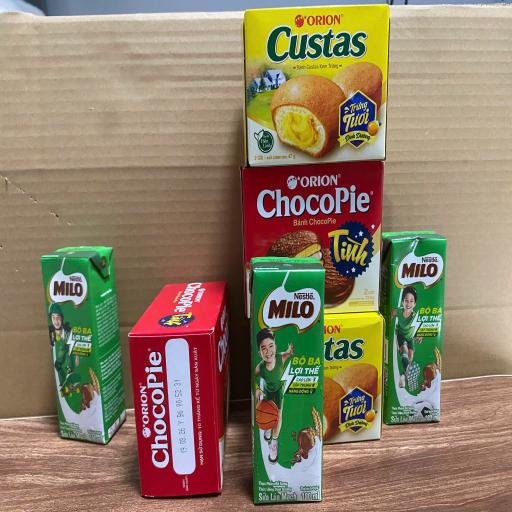chocopie: (241, 160, 384, 319), (128, 282, 230, 498)
custas: (242, 3, 390, 167), (250, 311, 384, 444)
milo: (248, 256, 326, 506), (41, 246, 127, 444), (379, 230, 447, 424)
